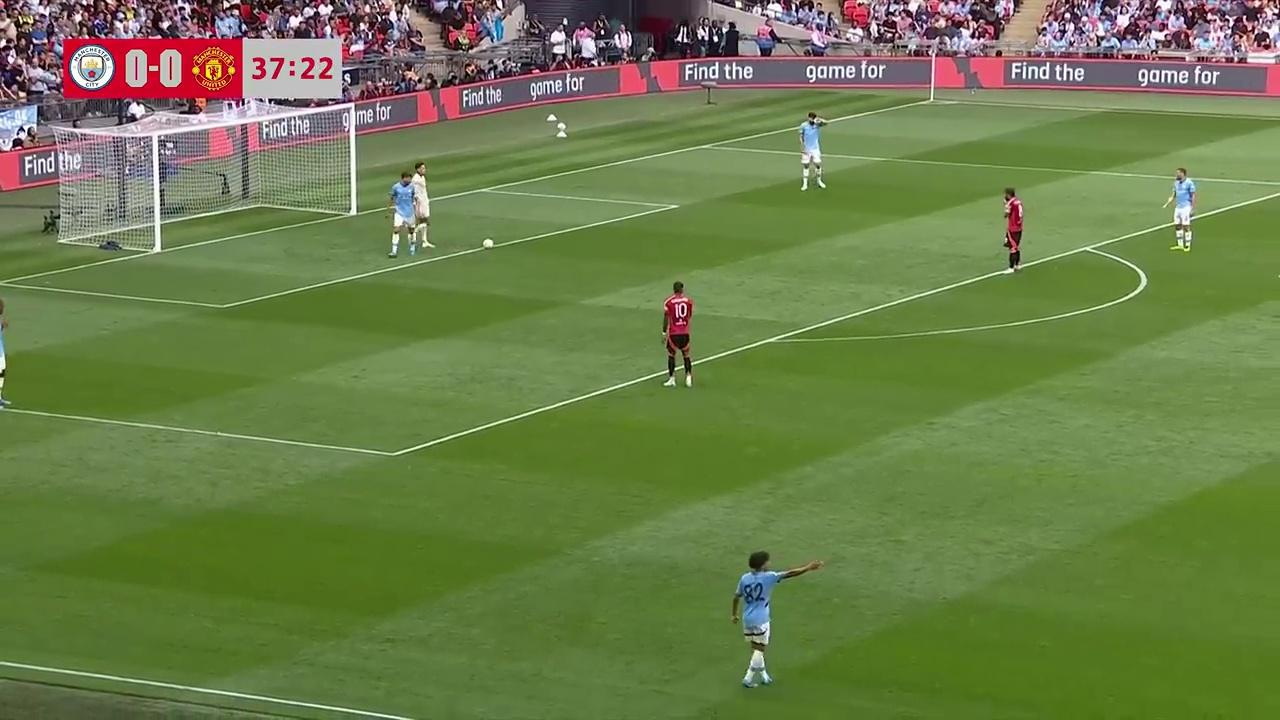ball: (482, 235, 494, 250)
player: (730, 551, 784, 689), (661, 280, 694, 388), (386, 175, 421, 257), (1165, 169, 1195, 252), (409, 164, 434, 250), (799, 113, 826, 191), (1002, 187, 1023, 272), (0, 302, 9, 410), (0, 295, 9, 371)
